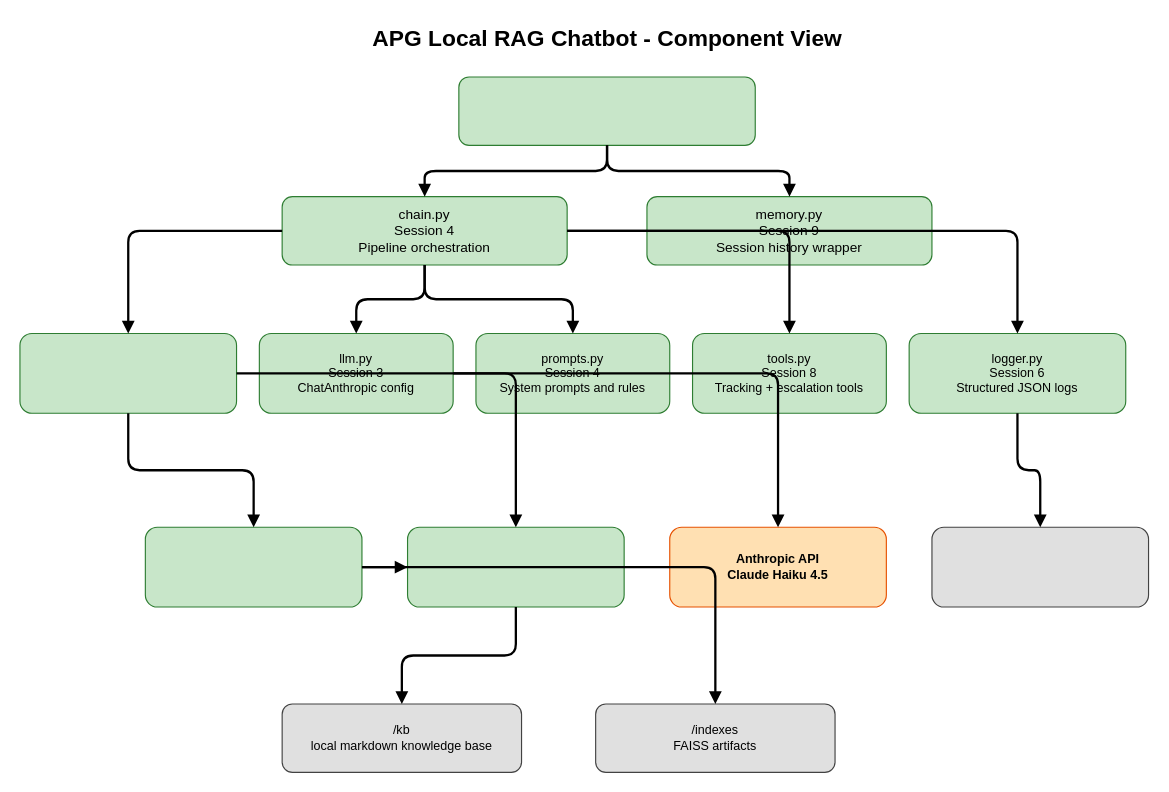
The diagram is 1169 pixels wide and 792 high, and some of its shapes have lost their labels. Each missing label, with the centre of its shape:
/logs queries.jsonl + escalations: point (1040, 566)
app.py Session 10 Streamlit UI entry point: point (606, 110)
embedder.py Session 2 Build FAISS indexes: point (253, 566)
loader.py Session 1 Load KB into Documents: point (515, 566)
retriever.py Session 5-6 Hybrid retrieval + reranking: point (128, 372)
